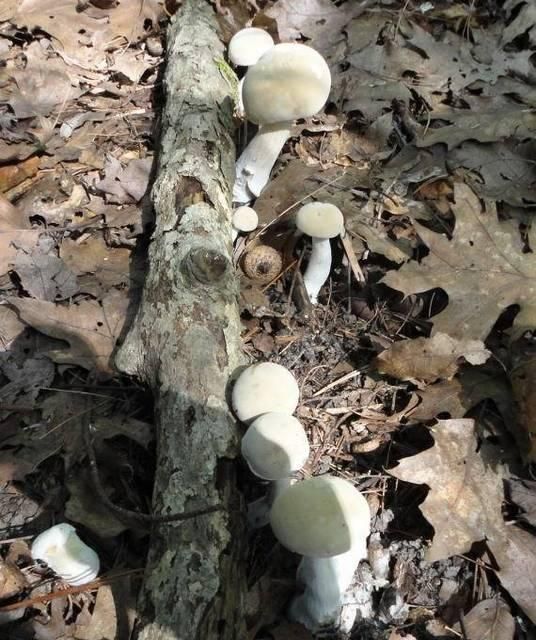edible_mushroom: (230, 40, 331, 207), (268, 475, 371, 632), (294, 200, 344, 306), (239, 411, 309, 481), (29, 521, 99, 586), (230, 360, 299, 424)
